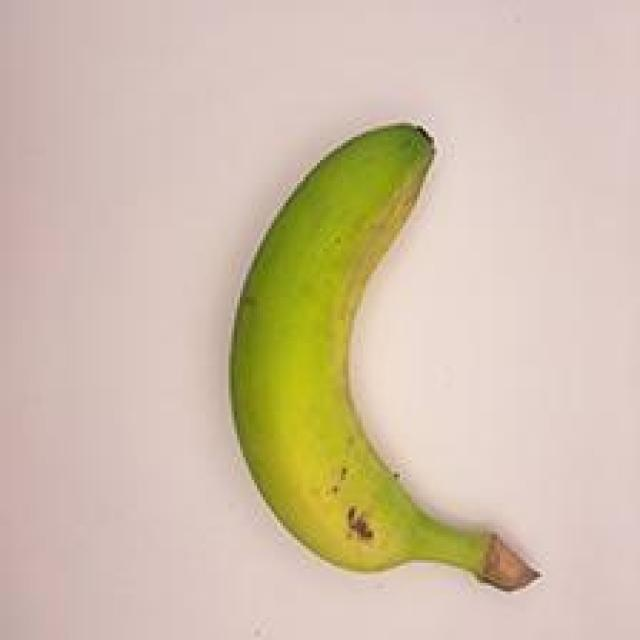Unripe: (197, 94, 564, 616)
